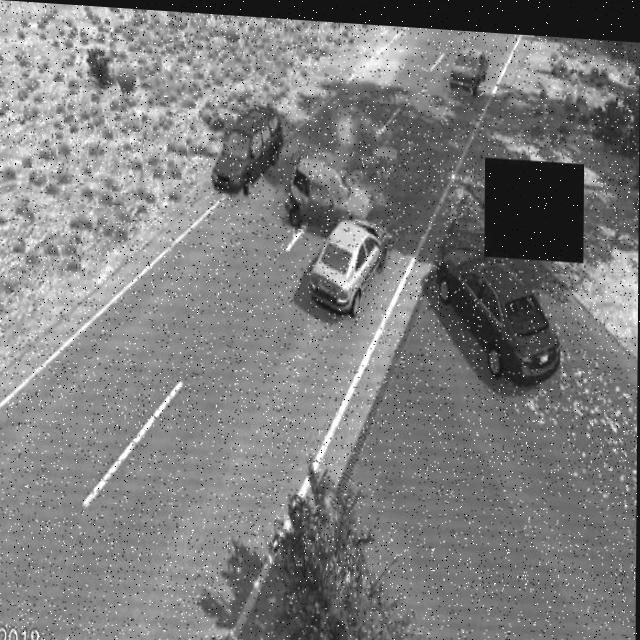multiple_accident: (287, 151, 387, 311)
normal: (434, 220, 566, 389), (430, 41, 491, 123), (216, 106, 273, 193)
